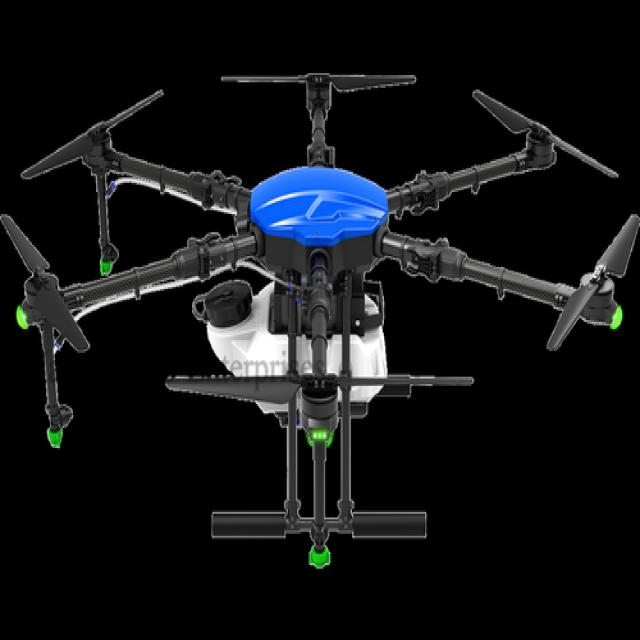drone: (0, 67, 640, 606)
